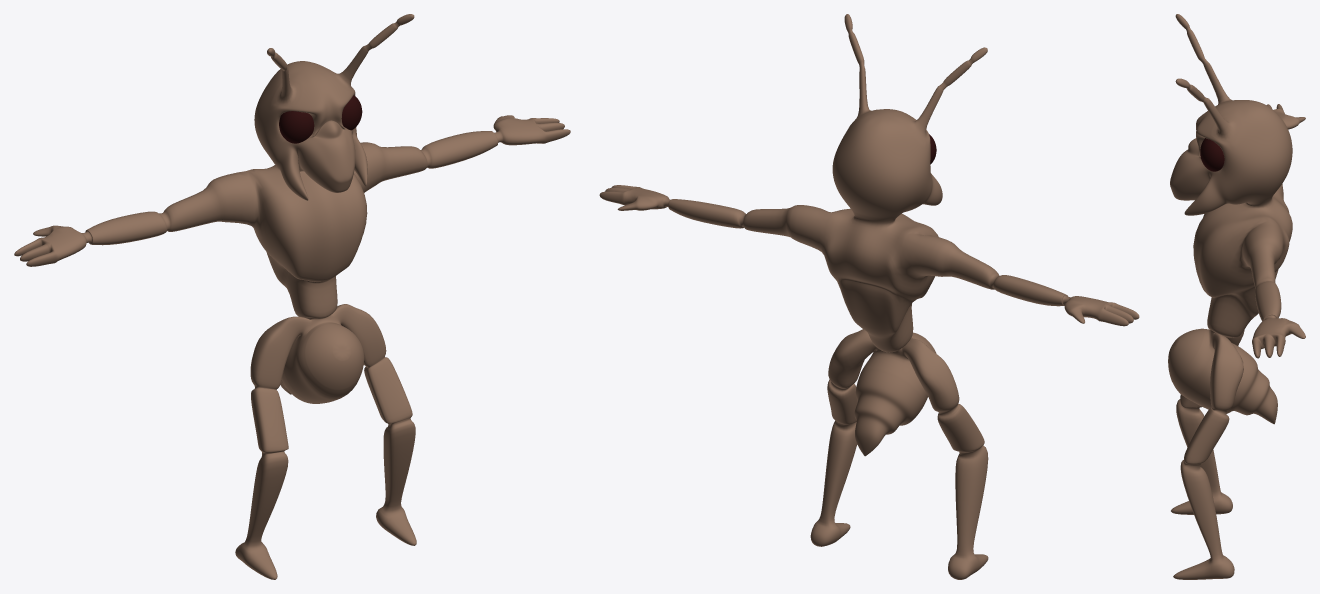
File: ant2.fbx
3 views of the same model, side by side, from view 1: azimuth 30°, elevation 25°; view 2: azimuth 150°, elevation 25°; view 3: azimuth 270°, elevation 25° (orthographic). The views are drawn at different scales.
Visible parts, largest first — view 1: pSphere4; view 2: pSphere4; view 3: pSphere4.
Part boxes in pixels (x1,y1,x2,y2): pSphere4: (14,14,570,579); pSphere4: (599,14,1139,579); pSphere4: (1168,14,1305,579).
Bounding box in the file's own units: 8.1 × 7.54 × 1.89.
